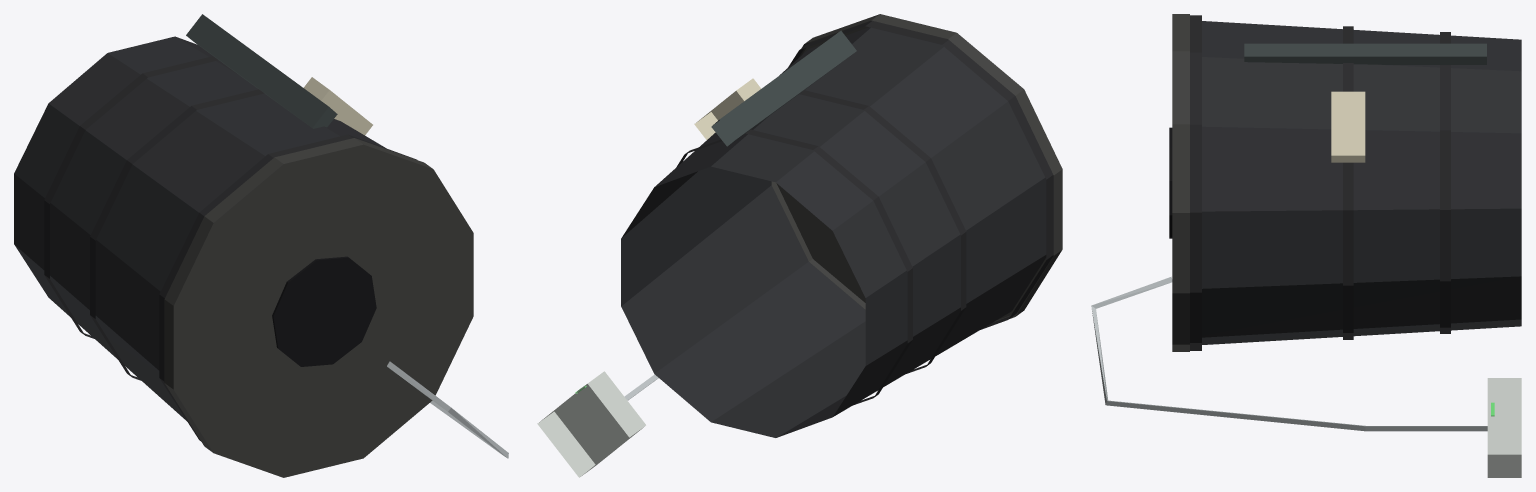
Rendered from pot_dwc_empty.obj.
3 views of the same model, side by side, from view 1: azimuth 30°, elevation 25°; view 2: azimuth 150°, elevation 25°; view 3: azimuth 270°, elevation 25° (orthographic). The views are drawn at different scales.
Size of the model in its own units: 0.593 by 0.608 by 0.633.
1 material, 1 textured.
